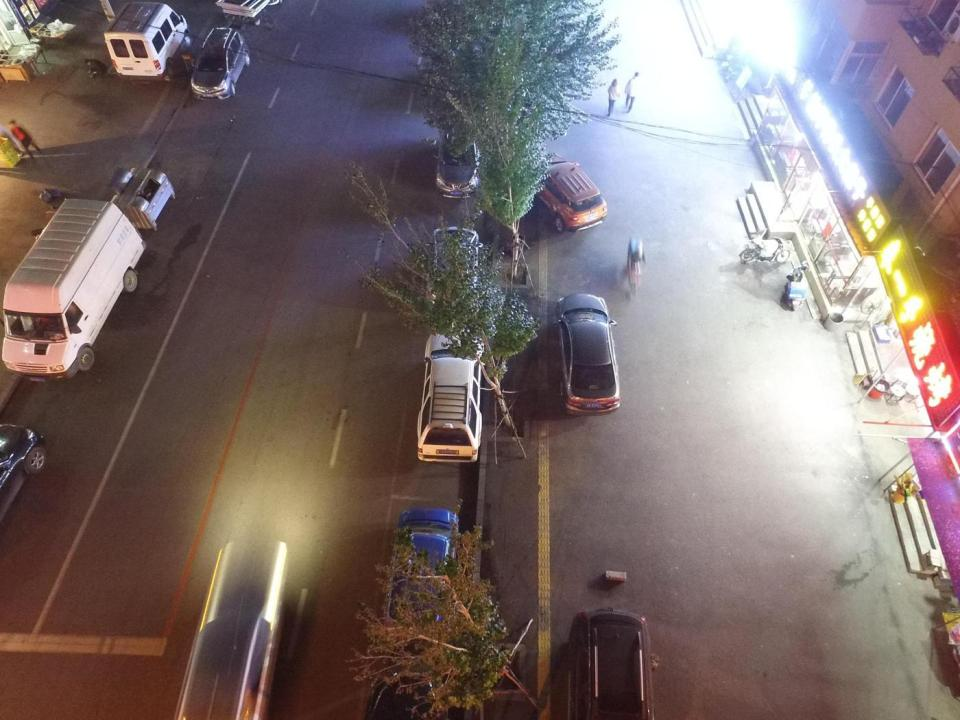car: (177, 613, 271, 720), (387, 506, 458, 632), (554, 292, 620, 419), (519, 152, 608, 233), (363, 668, 466, 720), (425, 225, 481, 309), (190, 25, 250, 103), (435, 120, 481, 200), (1, 423, 46, 494)
van: (1, 197, 146, 384), (567, 606, 654, 720), (415, 327, 485, 464), (103, 1, 188, 81)
